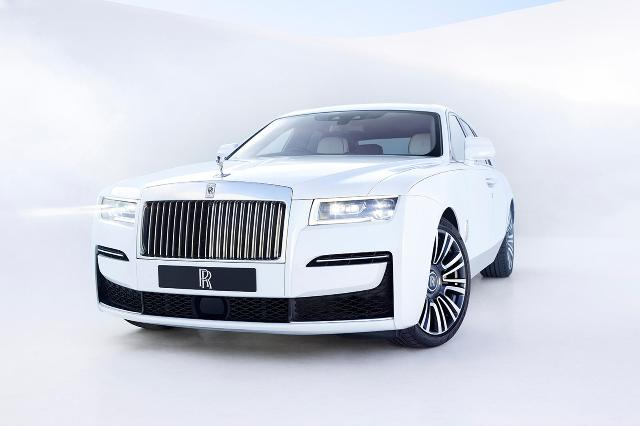rolls-royce: (94, 103, 516, 349)
